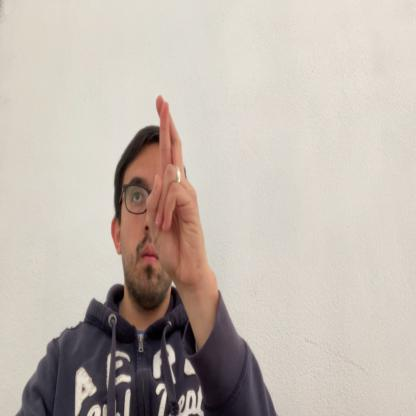R: (146, 95, 204, 279)
